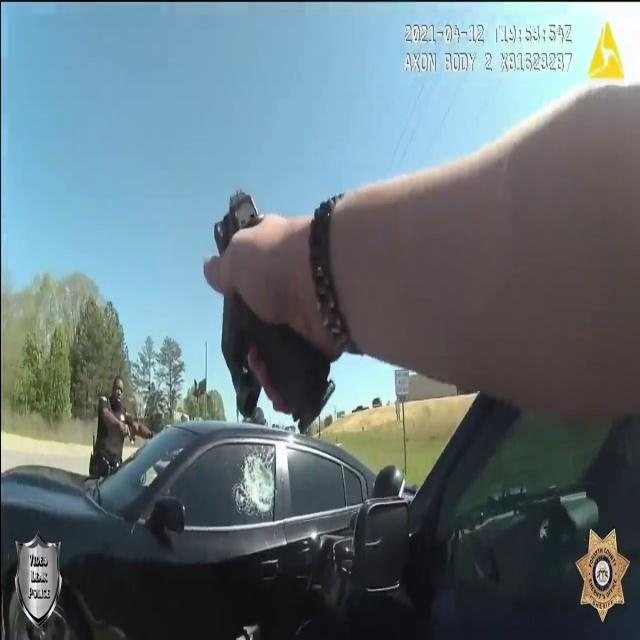gun: (204, 184, 341, 431), (124, 418, 140, 446)
